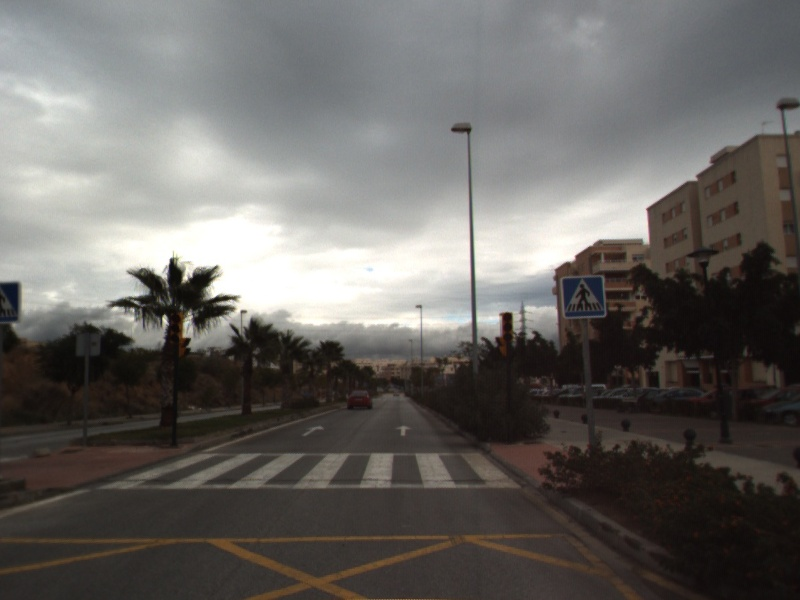STRAIGHT: (300, 423, 326, 438), (393, 423, 414, 437)
